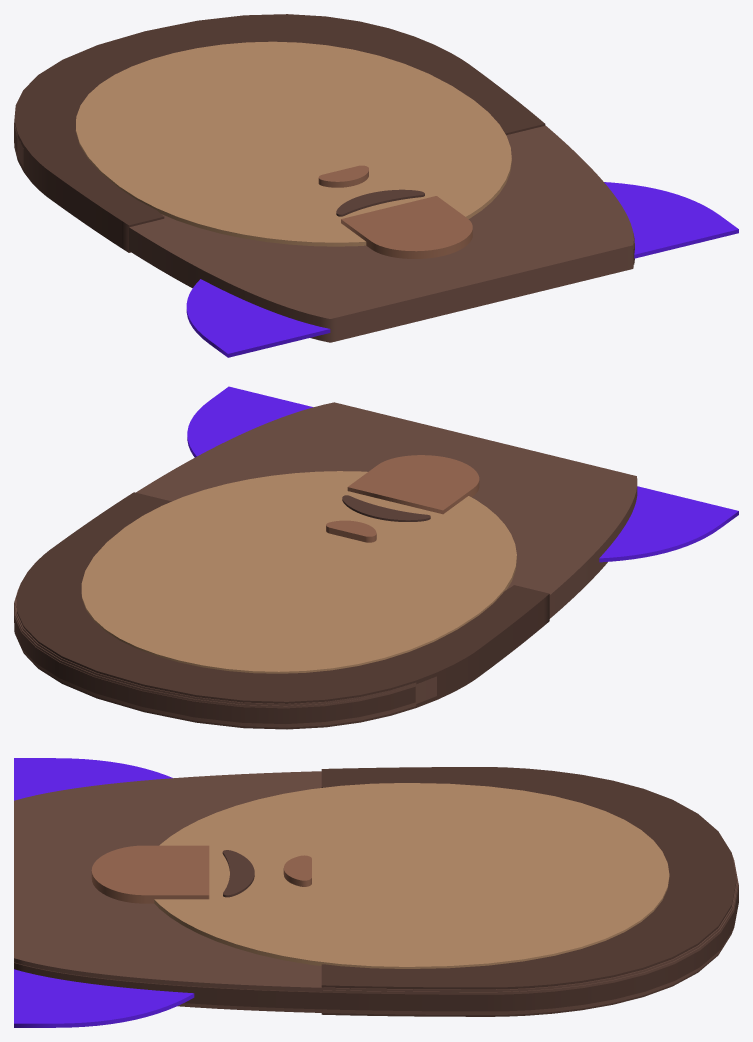
Rendered from emoji_u1f64d_1f3fd_200d_2640.glb.
3 renders of one model, top to bottom at view 1: azimuth 30°, elevation 25°; view 2: azimuth 150°, elevation 25°; view 3: azimuth 270°, elevation 25°, orthographic. The views are drawn at different scales.
Visible parts, largest first — view 1: emoji_u1f64d_1f3fd_200d_2640; view 2: emoji_u1f64d_1f3fd_200d_2640; view 3: emoji_u1f64d_1f3fd_200d_2640.
Boxes of the visible parts, box(x1,y1,x2,y2) form: emoji_u1f64d_1f3fd_200d_2640: box(14, 14, 738, 357); emoji_u1f64d_1f3fd_200d_2640: box(14, 386, 738, 729); emoji_u1f64d_1f3fd_200d_2640: box(14, 758, 738, 1027).
Bounding box in the file's own units: 0.0271 × 0.0022 × 0.0313.
